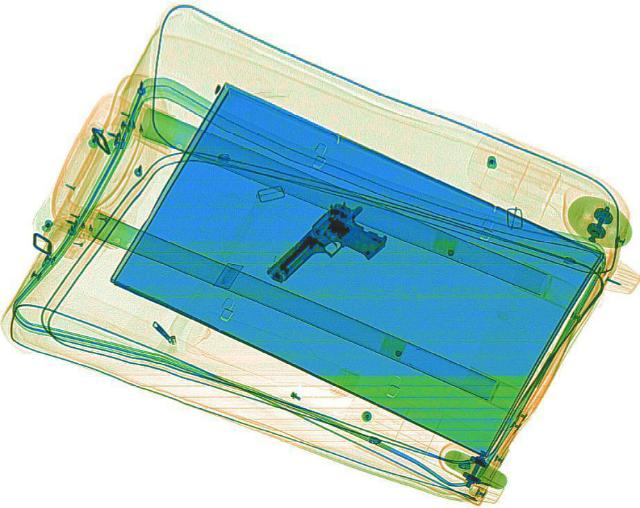Gun: (257, 193, 401, 305)
